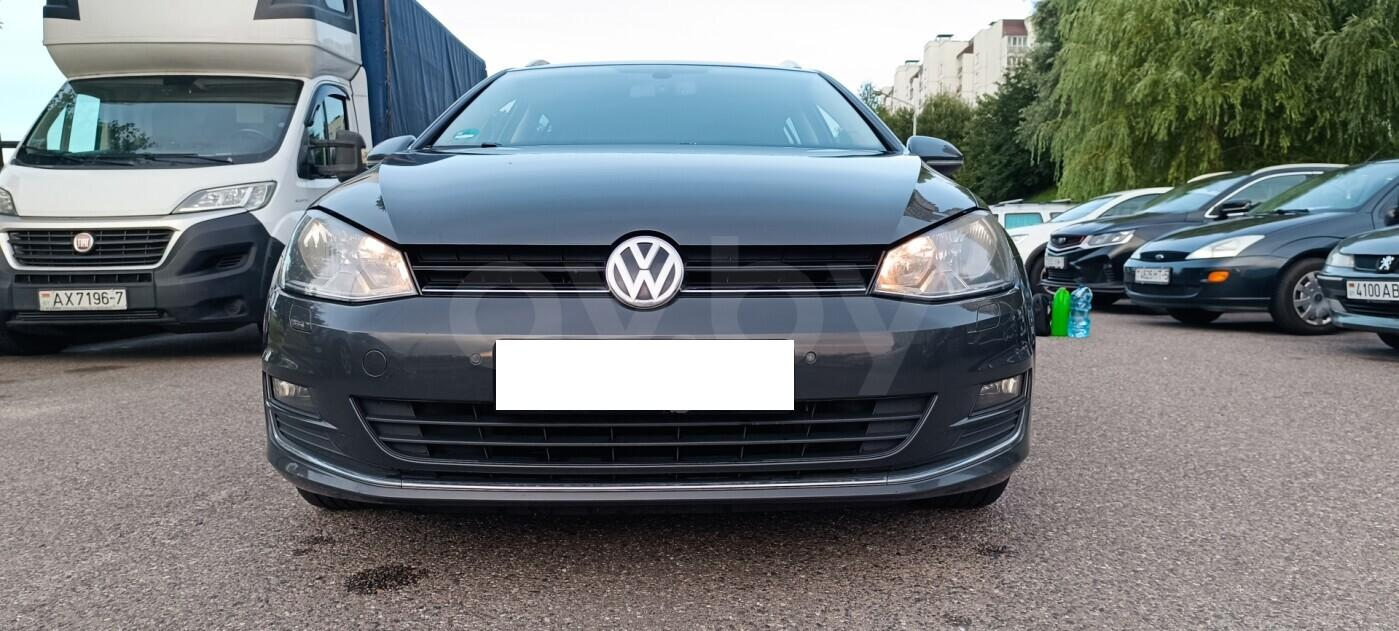Golf_2012-2017: (244, 58, 1051, 529)
